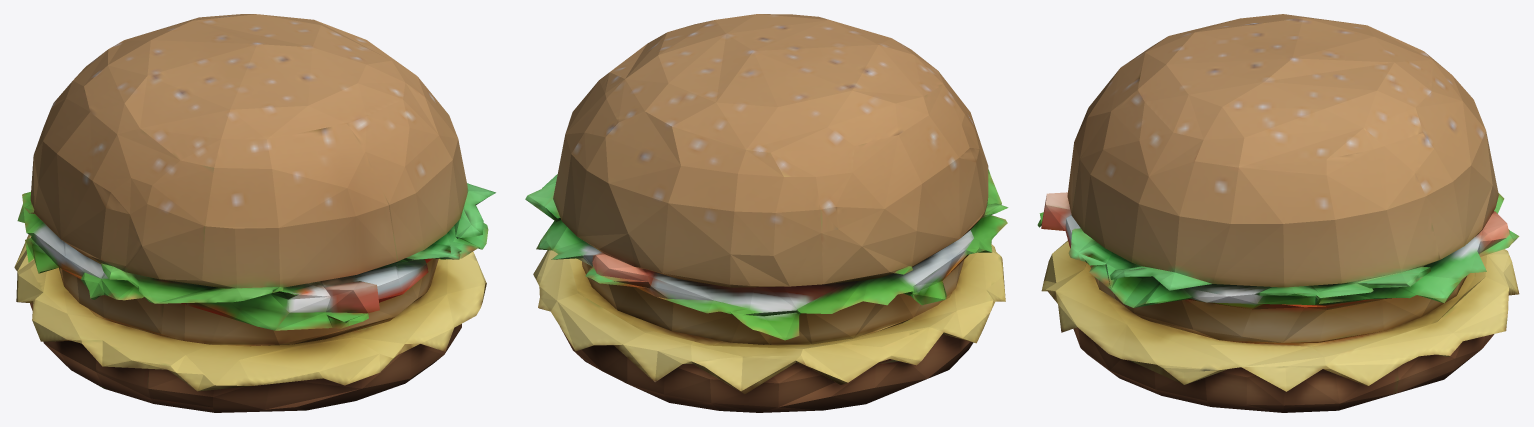
Rendered from burger.glb.
3 views of the same model, side by side, from view 1: azimuth 30°, elevation 25°; view 2: azimuth 150°, elevation 25°; view 3: azimuth 270°, elevation 25° (orthographic).
Parts seen in each view (by area): view 1: world; view 2: world; view 3: world.
Boxes of the visible parts, x1,y1,x2,y2 form: world: [14, 14, 495, 412]; world: [525, 14, 1008, 412]; world: [1037, 14, 1519, 412].
Bounding box in the file's own units: 0.7153 × 0.4673 × 0.7224.
1 material, 1 textured.
